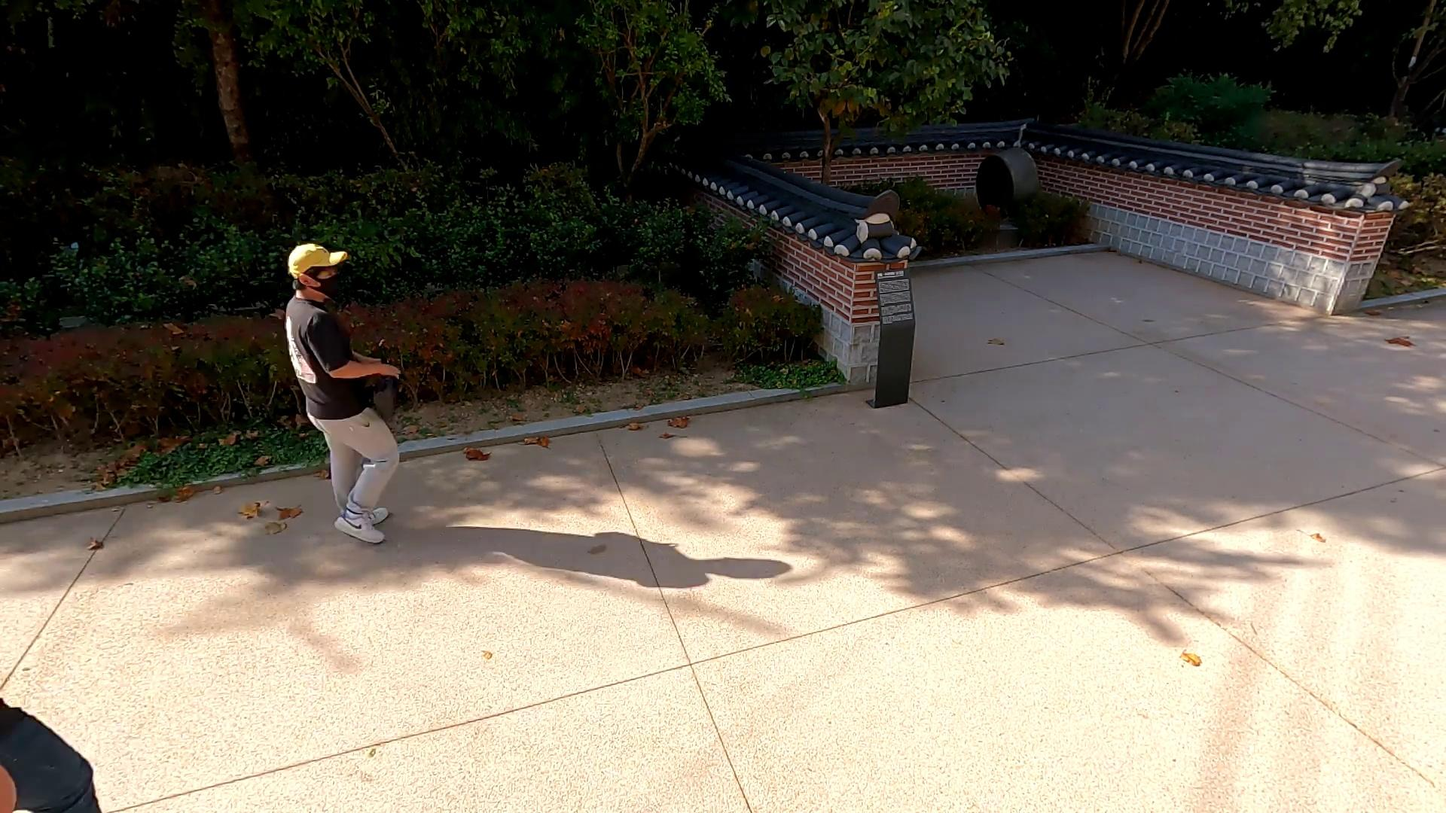person: (276, 227, 429, 561)
trash: (356, 369, 412, 424)
